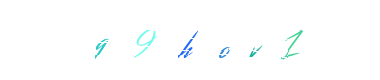1: (178, 0, 258, 80)
9: (149, 0, 229, 80)
H: (150, 0, 230, 80)
O: (157, 0, 237, 80)
Q: (141, 0, 221, 80)
V: (159, 0, 239, 80)
